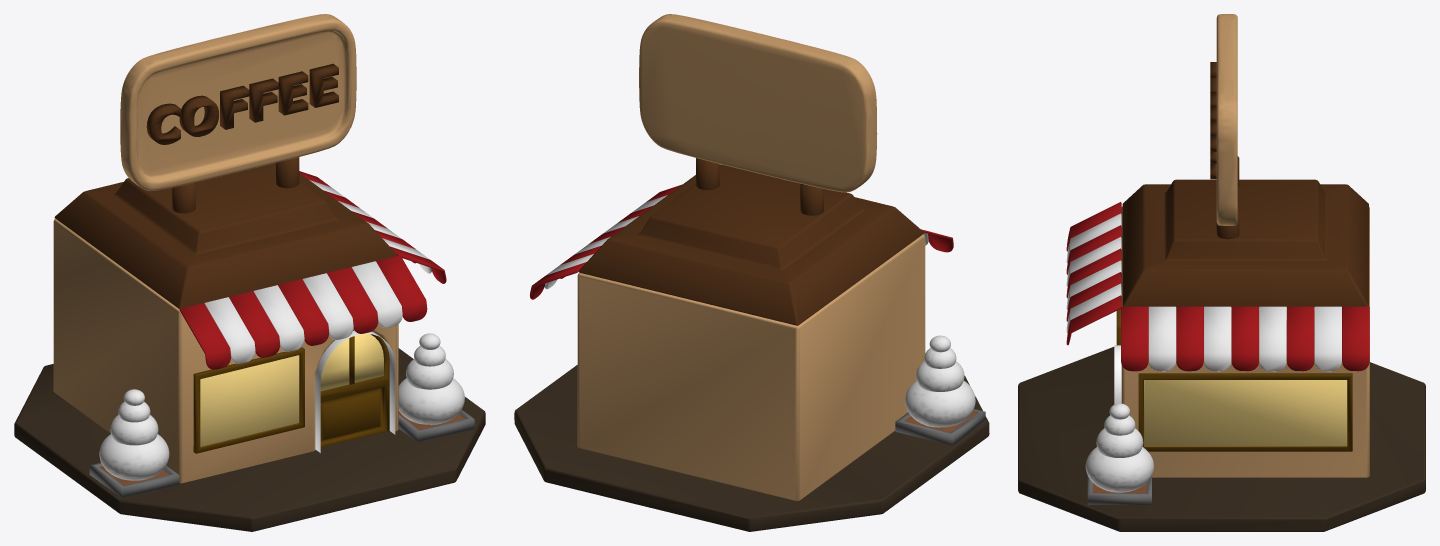
The model's file is 无标题.glb.
3 views of the same model, side by side, from view 1: azimuth 30°, elevation 25°; view 2: azimuth 150°, elevation 25°; view 3: azimuth 270°, elevation 25° (orthographic). The views are drawn at different scales.
Parts seen in each view (by area): view 1: Text.008; view 2: Text.008; view 3: Text.008.
Boxes of the visible parts, left/top/right/bottom form: Text.008: left=14, top=14, right=485, bottom=531; Text.008: left=514, top=14, right=989, bottom=531; Text.008: left=1018, top=14, right=1425, bottom=531.
Bounding box in the file's own units: 679 × 699 × 670.
